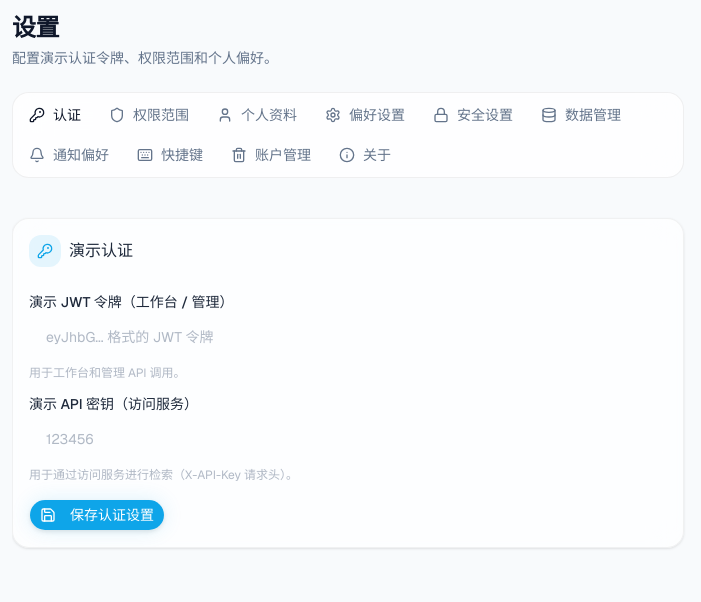
Test: SettingsPage › external mode shows agent_type_id, api_key, customer, app fields
The width and height of the screenshot is (701, 602).
Click the button "权限范围": click(149, 115) x1=97 y1=97 x2=201 y2=133
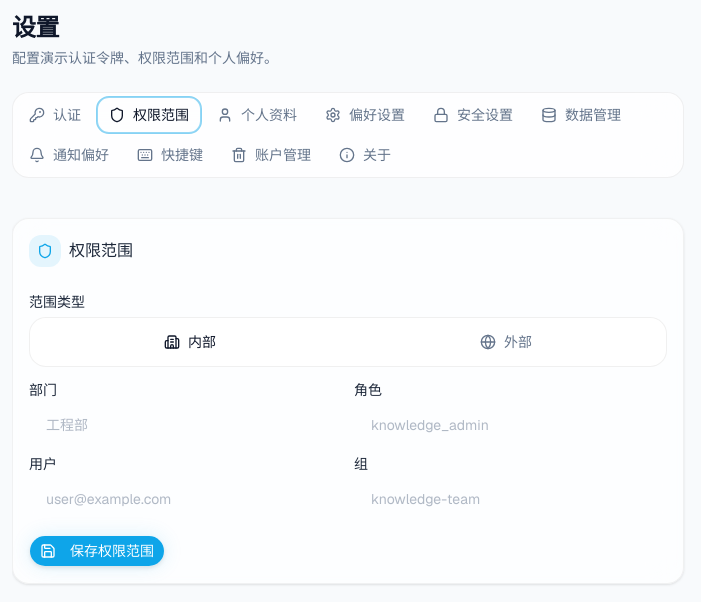
Result: the button "外部" is shown
Click the button "外部": click(506, 342) x1=350 y1=322 x2=662 y2=362
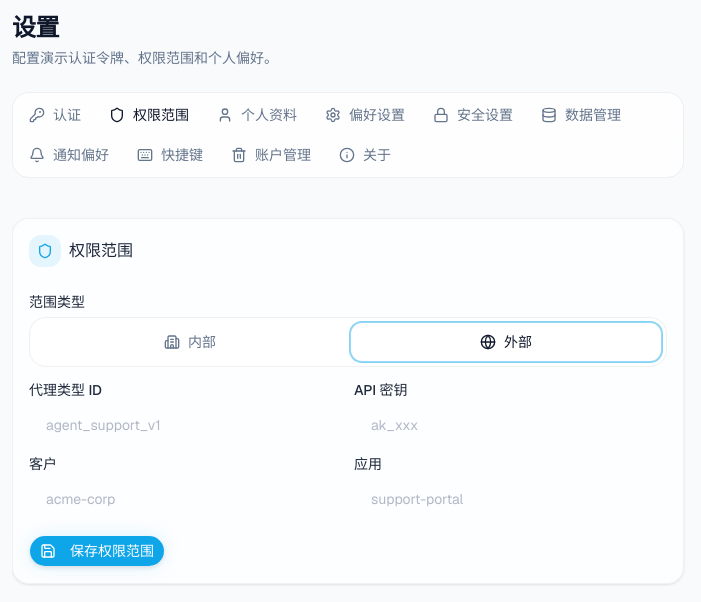
Result: the text "代理类型 ID" is shown at x1=29 y1=381 x2=102 y2=399
Result: the field with placeholder "agent_support_v1" is shown at x1=29 y1=405 x2=342 y2=445
Result: the field with placeholder "ak_xxx" is shown at x1=354 y1=405 x2=667 y2=445
